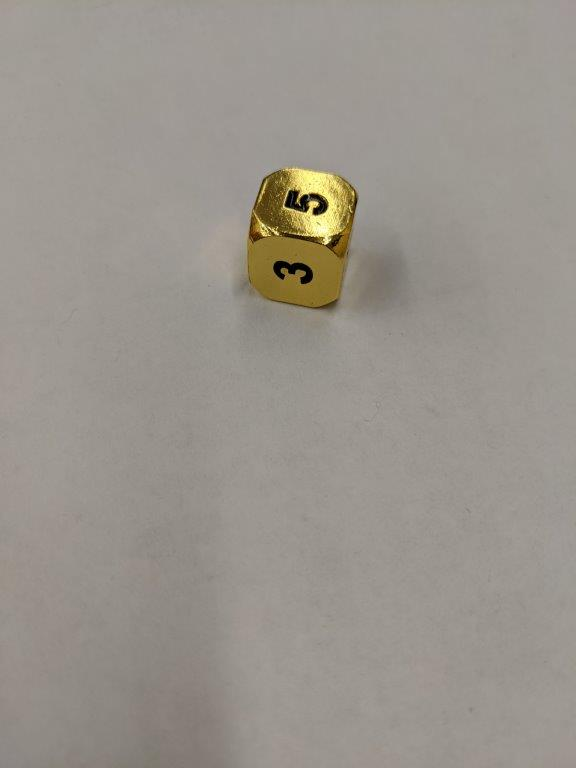d6-5: (245, 163, 358, 309)
